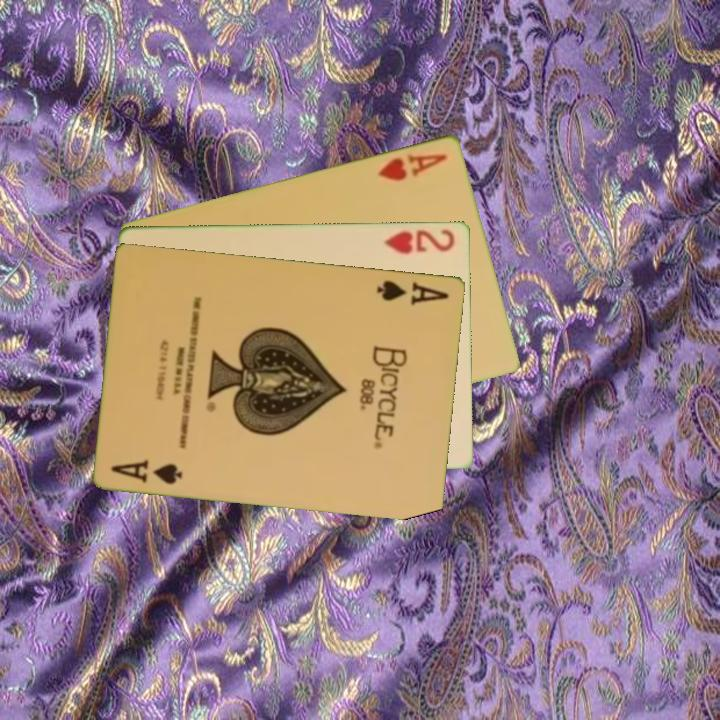2h: (381, 225, 458, 257)
Ah: (374, 149, 451, 183)
As: (374, 276, 452, 308), (108, 456, 186, 487)
